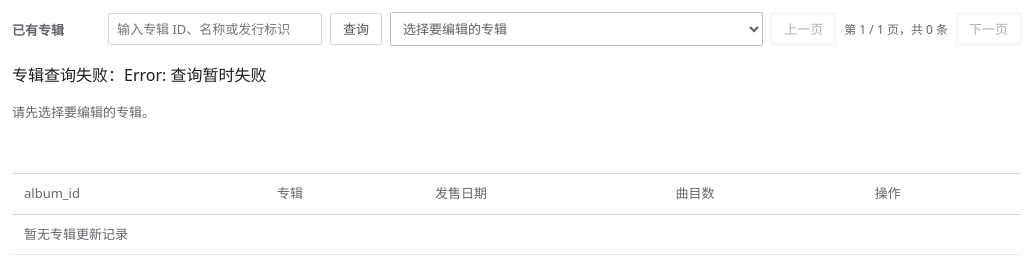
Scenario: album lookup recovers from loading and failure
The image size is (1036, 272).
Check: the text "加载中…" is shown, box 844,20 -> 948,38
Check: the dropdown labelled "已有专辑" is disabled, box 390,12 -> 763,46
Click the button "查询". click: (356, 29)
box: 330,13 -> 382,45
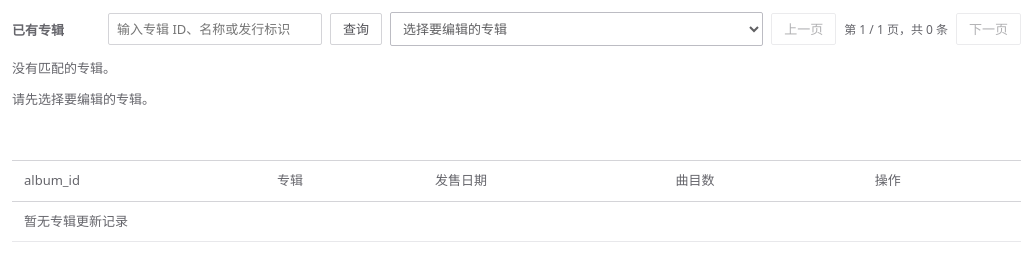
Check: the button "上一页" is disabled, box 771,13 -> 836,45
Check: the text "没有匹配的专辑。" is shown, box 12,59 -> 116,77
